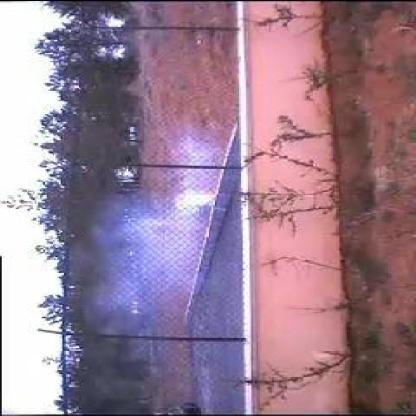-: (86, 137, 223, 330)
